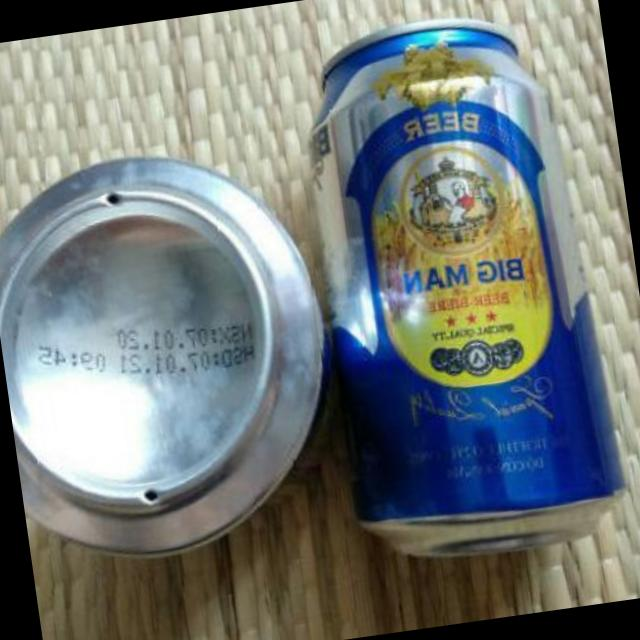metal: (313, 17, 623, 550), (0, 155, 325, 550)
